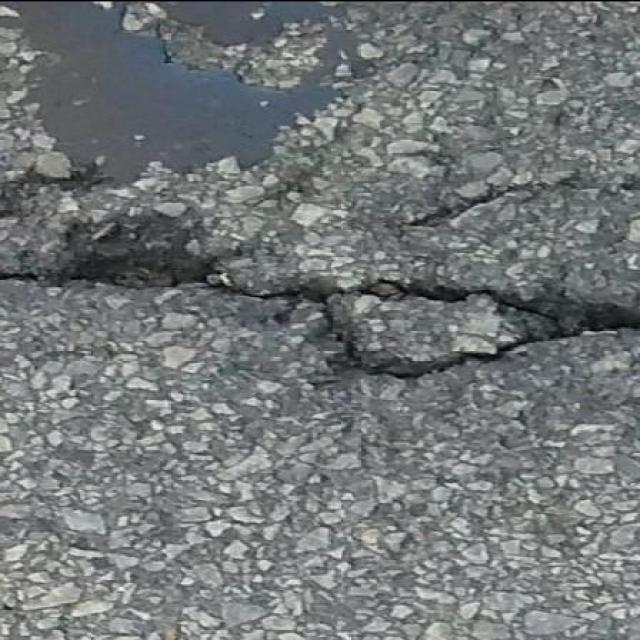Crack: (0, 212, 491, 375), (320, 282, 639, 376), (411, 178, 573, 222), (2, 162, 101, 218)
